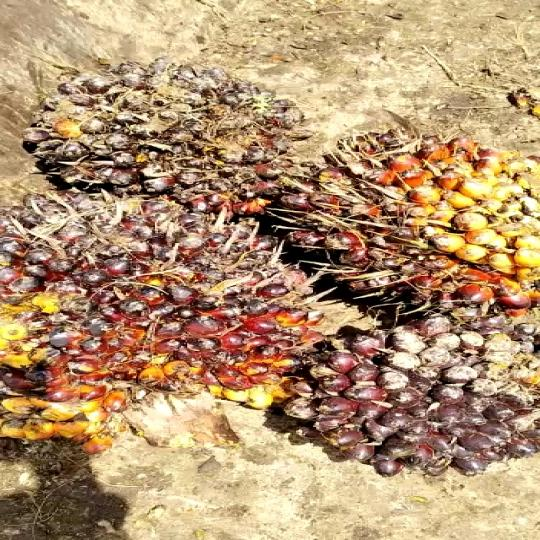kurang masak: (0, 197, 319, 412), (270, 115, 540, 313), (285, 312, 540, 498), (44, 60, 299, 212)
